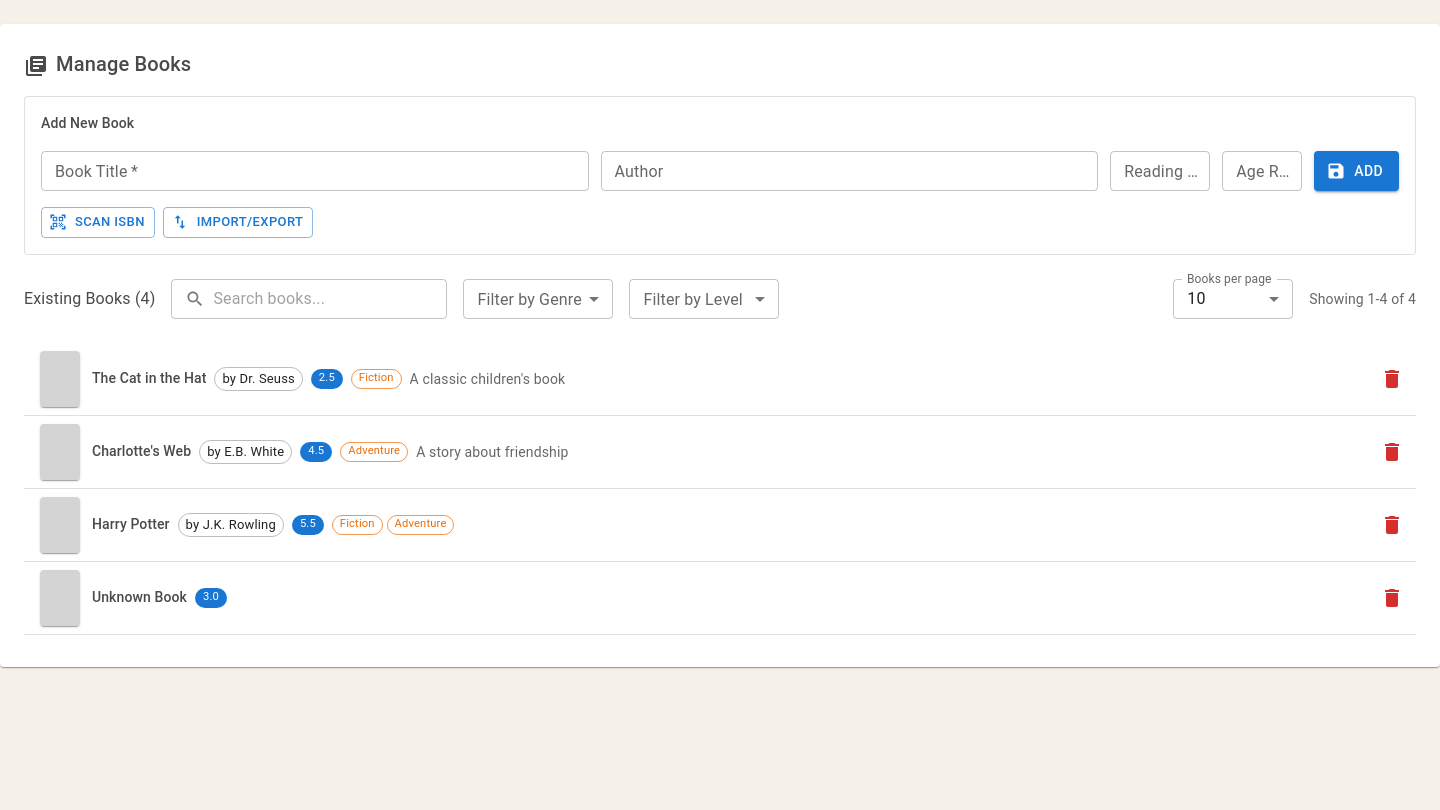
Test case: BookManager Component › Genre Filter › should filter books by genre
This screenshot has width=1440, height=810.
Step 1. Click the dropdown next to "Filter by Genre" → coordinates (538, 299), box left=463, top=279, right=613, bottom=319
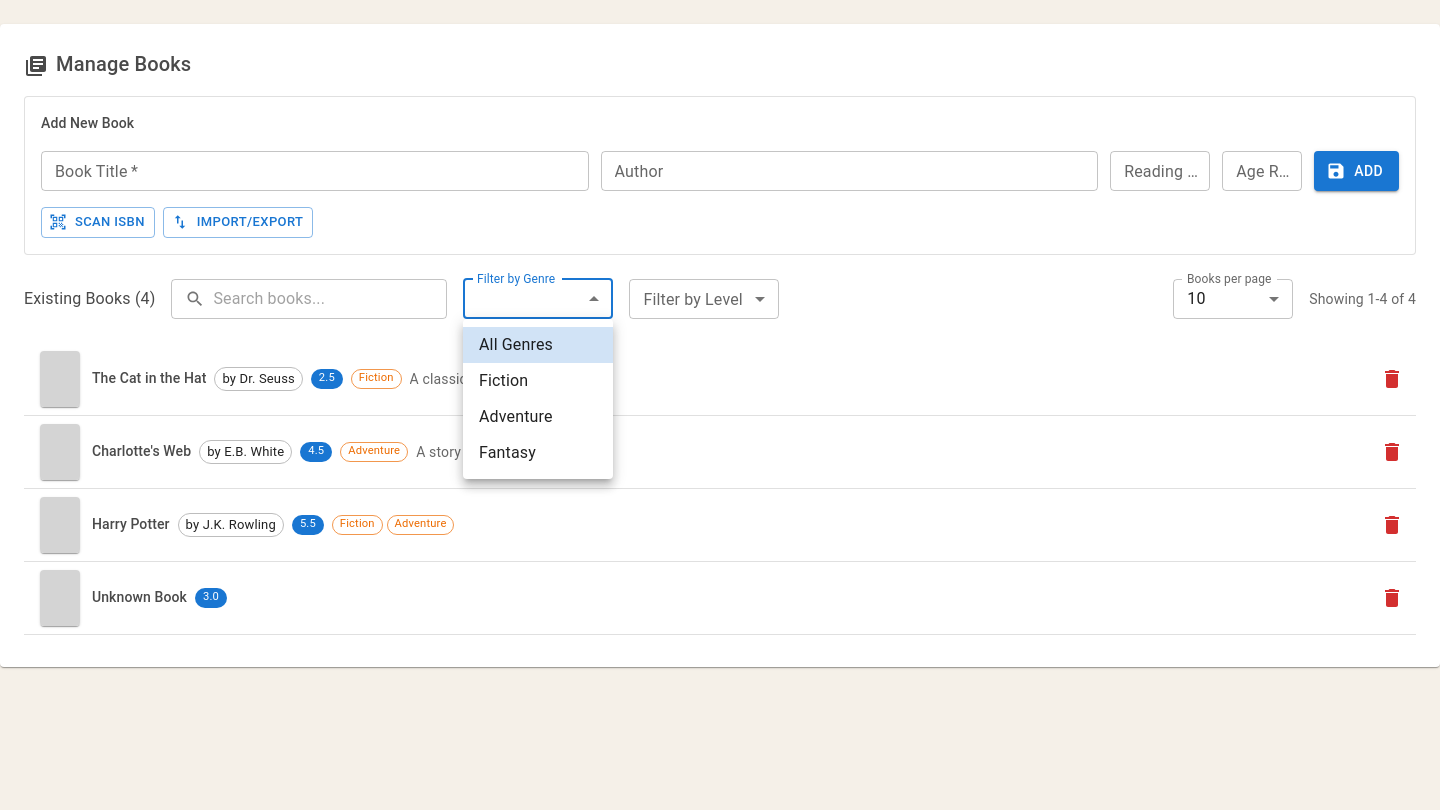
Select "Adventure" genre from the dropdown
Step 2. Click the option "Adventure" → coordinates (516, 416), box left=479, top=407, right=553, bottom=426
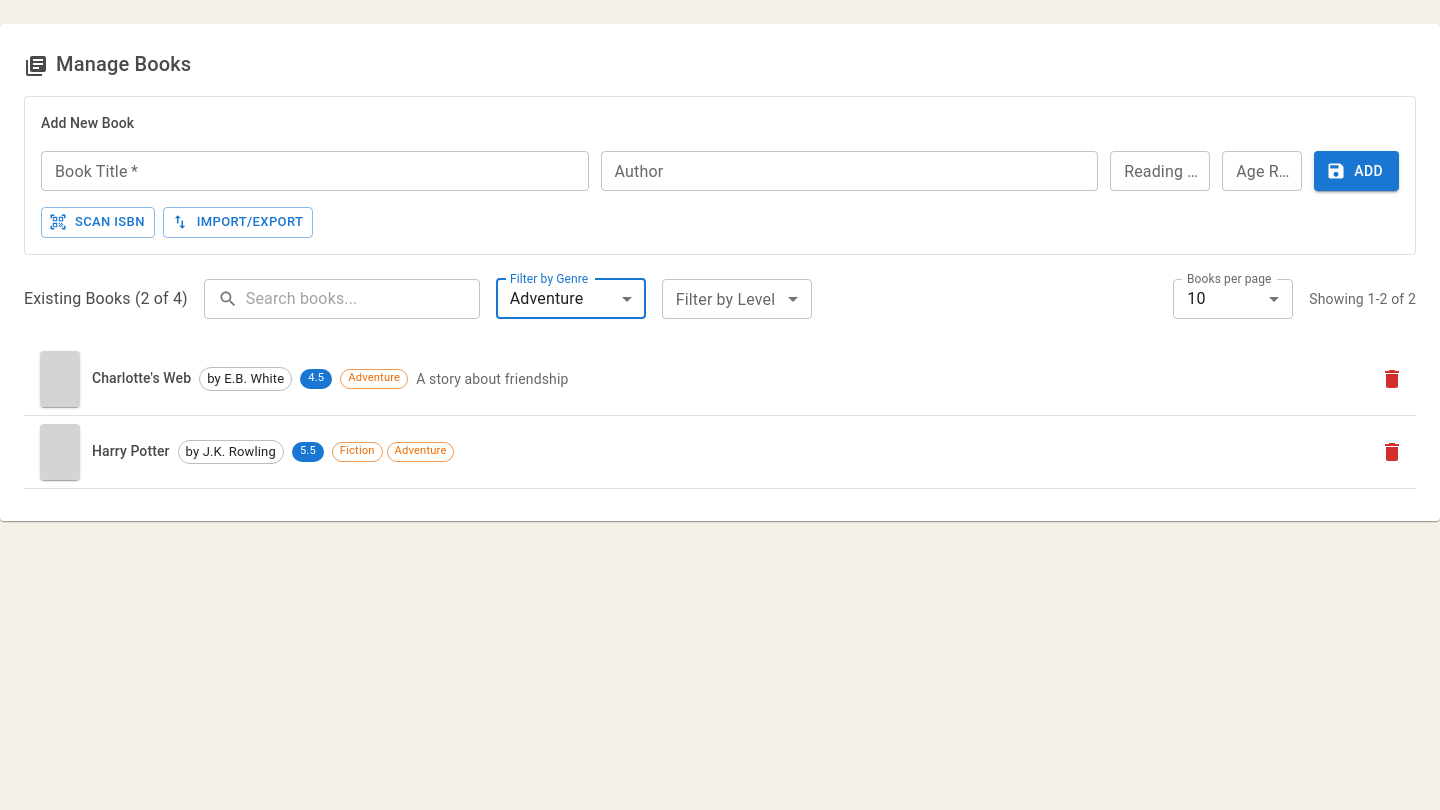
Expected: the heading "Charlotte's Web" is shown, left=92, top=368, right=191, bottom=390
Result: the heading "The Cat in the Hat" is gone
